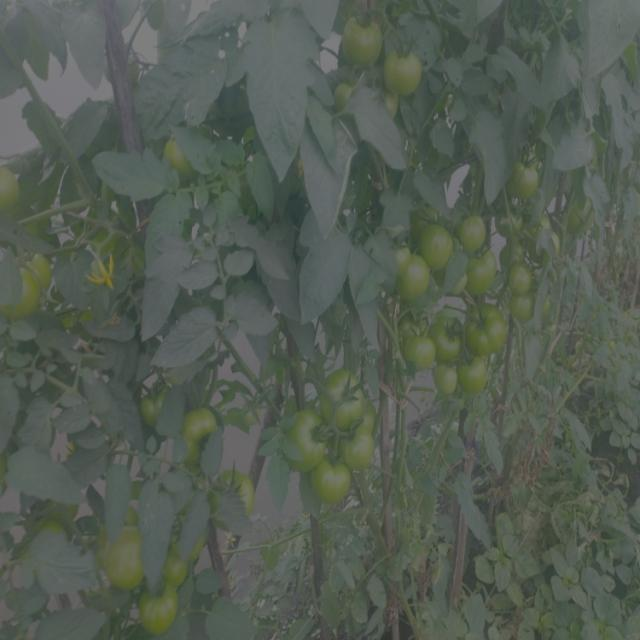tomato: (282, 405, 336, 468), (319, 367, 369, 435), (104, 528, 150, 596), (339, 8, 386, 67), (505, 154, 550, 210), (468, 304, 509, 358), (181, 409, 221, 464), (141, 587, 184, 638), (307, 460, 355, 505), (383, 48, 426, 97), (4, 265, 40, 322), (30, 510, 74, 555), (1, 163, 30, 224), (343, 430, 383, 474), (161, 131, 196, 181), (456, 212, 494, 256), (422, 224, 456, 273), (133, 384, 169, 429), (225, 472, 261, 517), (406, 259, 434, 304), (435, 318, 464, 361), (405, 330, 438, 367), (470, 254, 499, 294), (160, 554, 194, 587), (460, 360, 489, 397), (432, 365, 460, 401), (32, 254, 57, 293), (510, 261, 536, 296), (534, 211, 559, 245), (511, 297, 539, 325), (388, 238, 410, 272), (335, 80, 356, 110), (386, 101, 404, 121)
